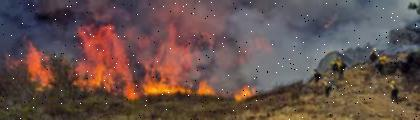fire: (23, 23, 255, 120)
